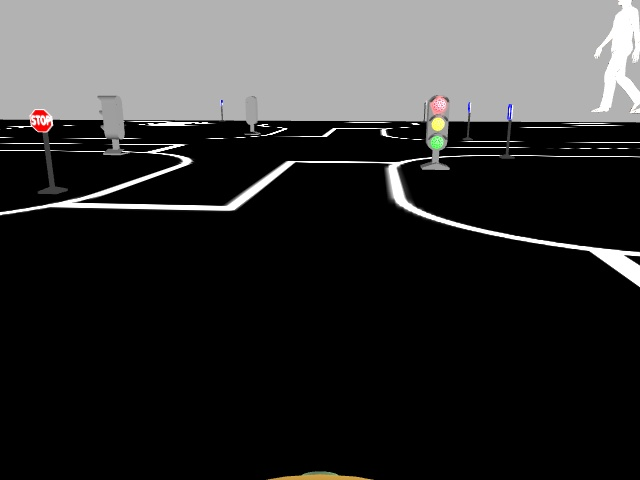Stop: (28, 107, 51, 132)
TrafficLight: (425, 93, 448, 150)
